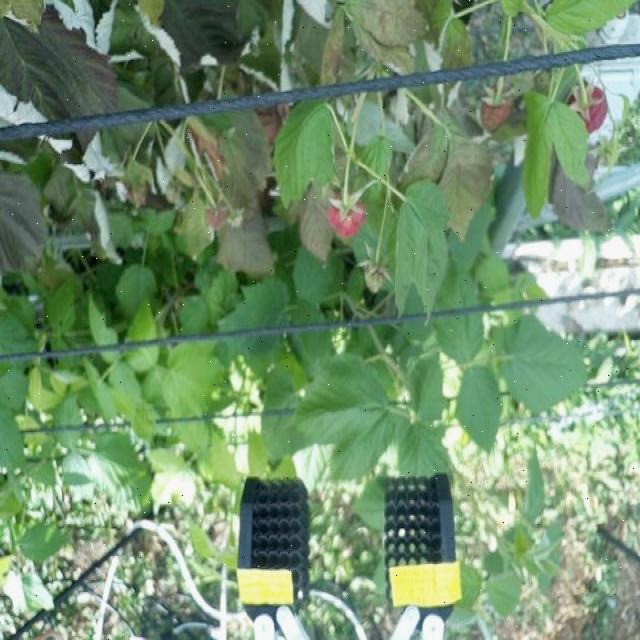Riped berries: (324, 191, 367, 241), (570, 83, 610, 131), (481, 86, 514, 130)
